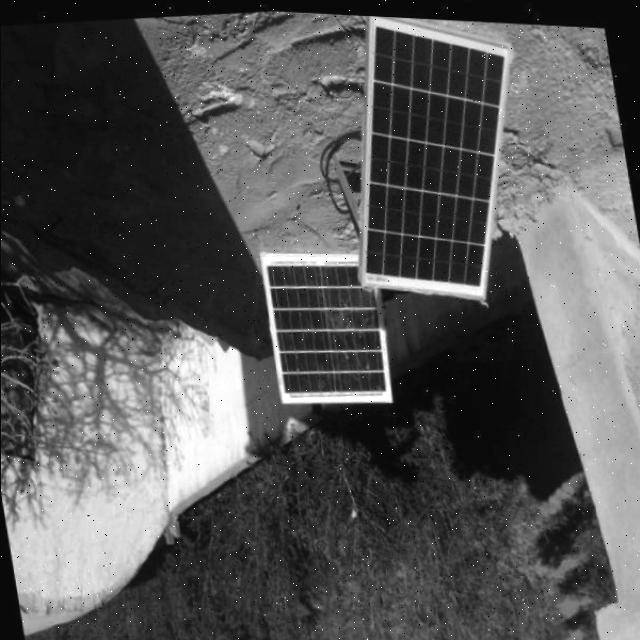Normal Solar Panel: (323, 9, 553, 310)
